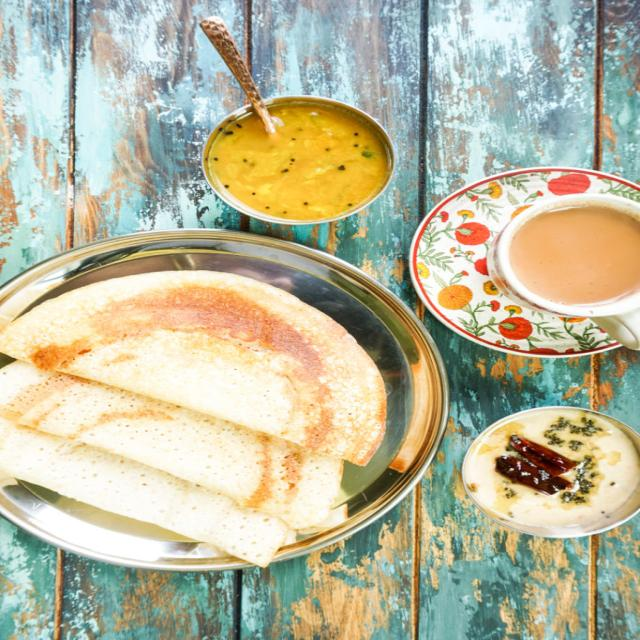dosa: (0, 262, 383, 461), (0, 362, 337, 521), (0, 417, 297, 558), (462, 407, 639, 533)
